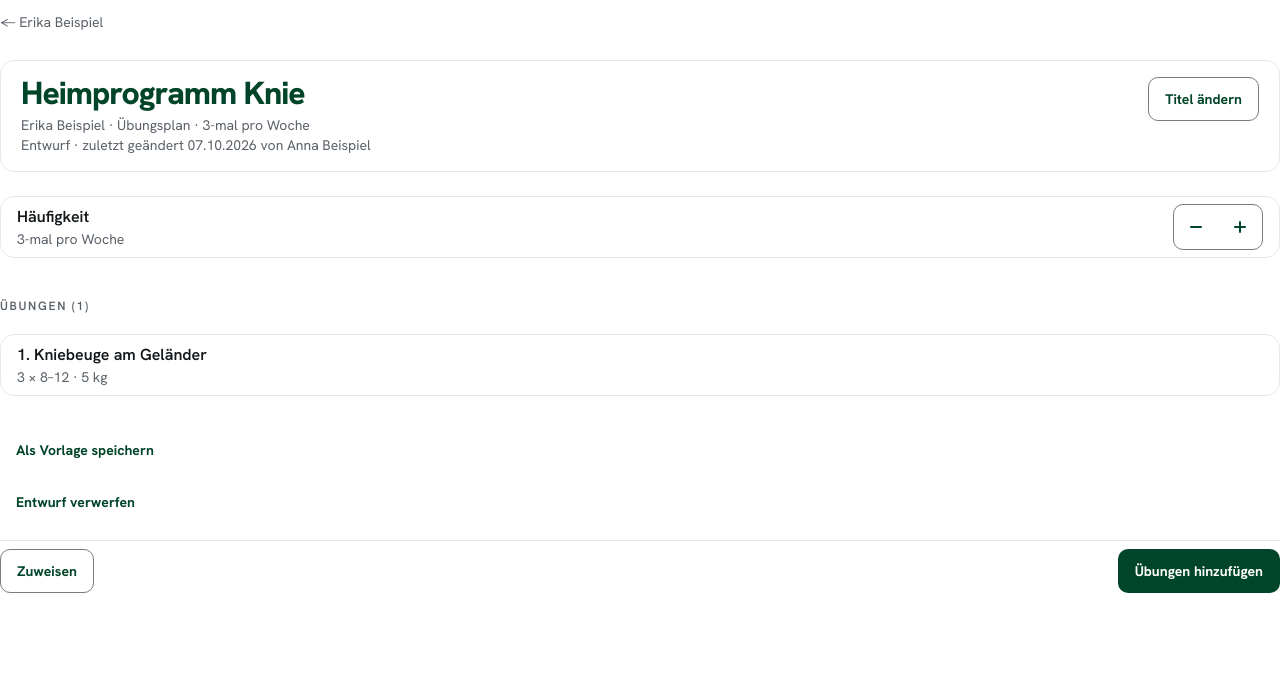
Scenario: Planeditor: Entwurf als Arbeitsseite (UEB-004, Welle B) › verlangt für die doppelte Progression eine Last
Click the button "1. Kniebeuge am Geländer 3 × 8–12 · 5 kg" at point(112, 354), box [1,335,1279,395]
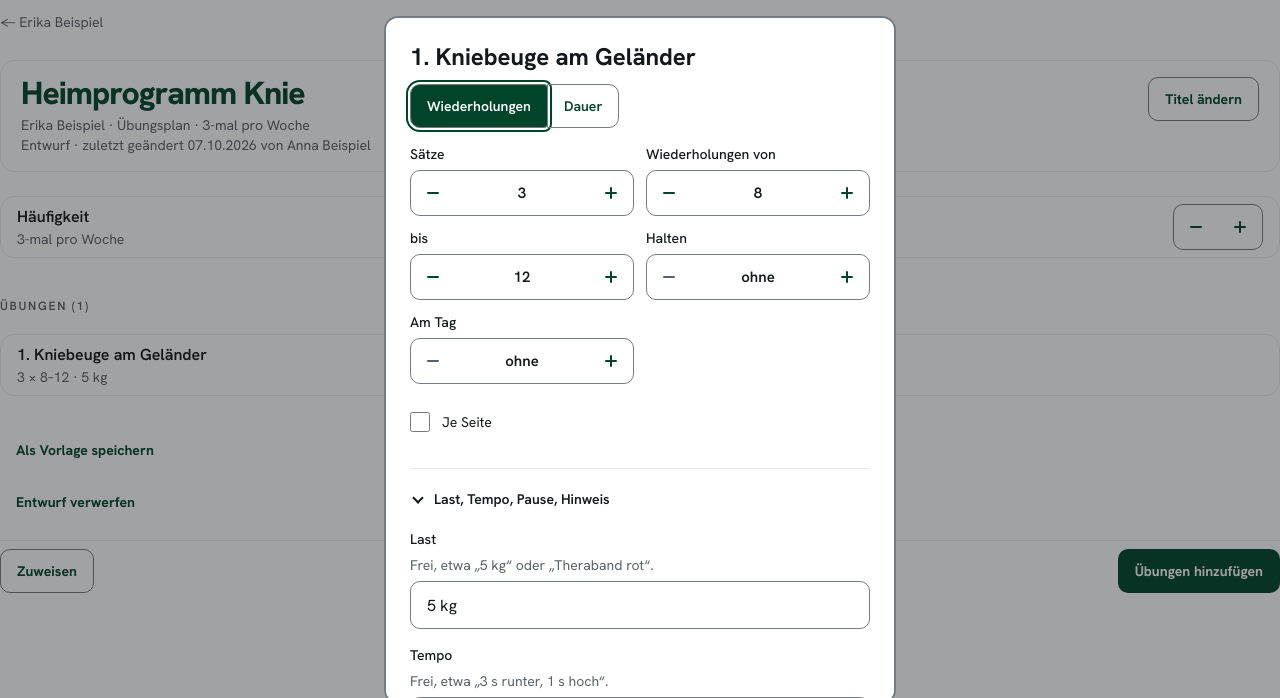
Clear the field labelled "Last" at point(640, 605), box [410,581,870,629]
(page scrolled)
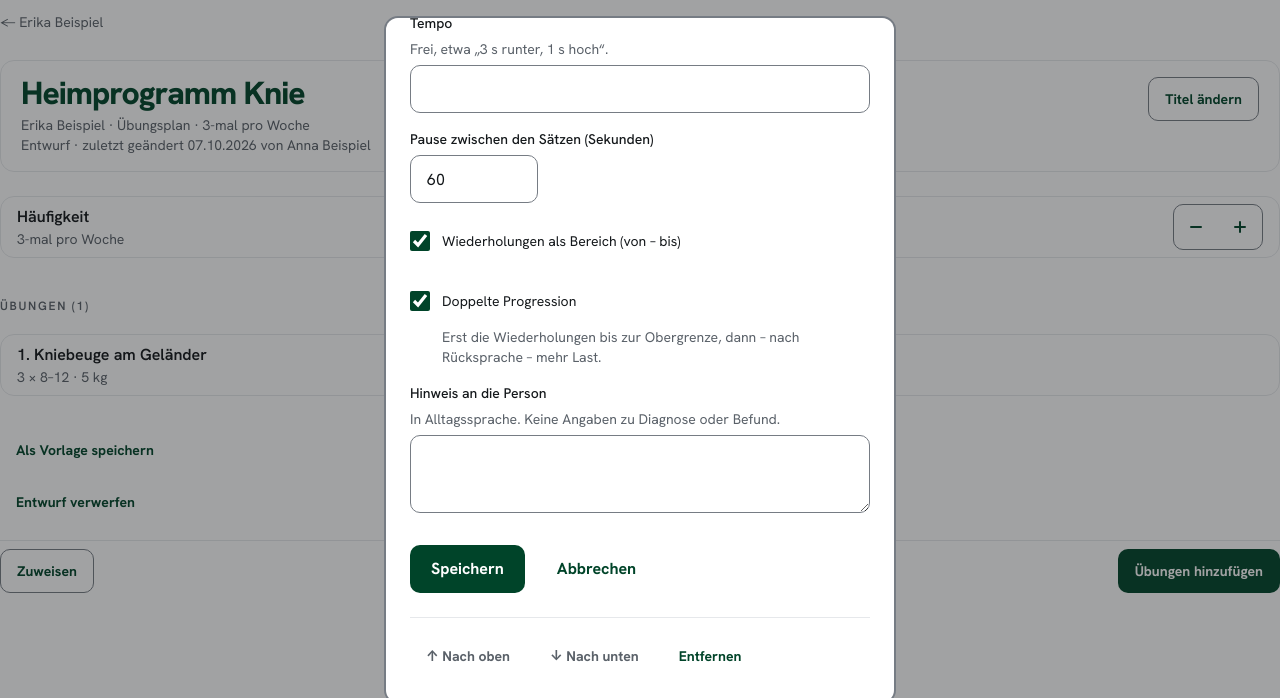
Click the button "Speichern" at point(467, 569), box [410,545,525,593]
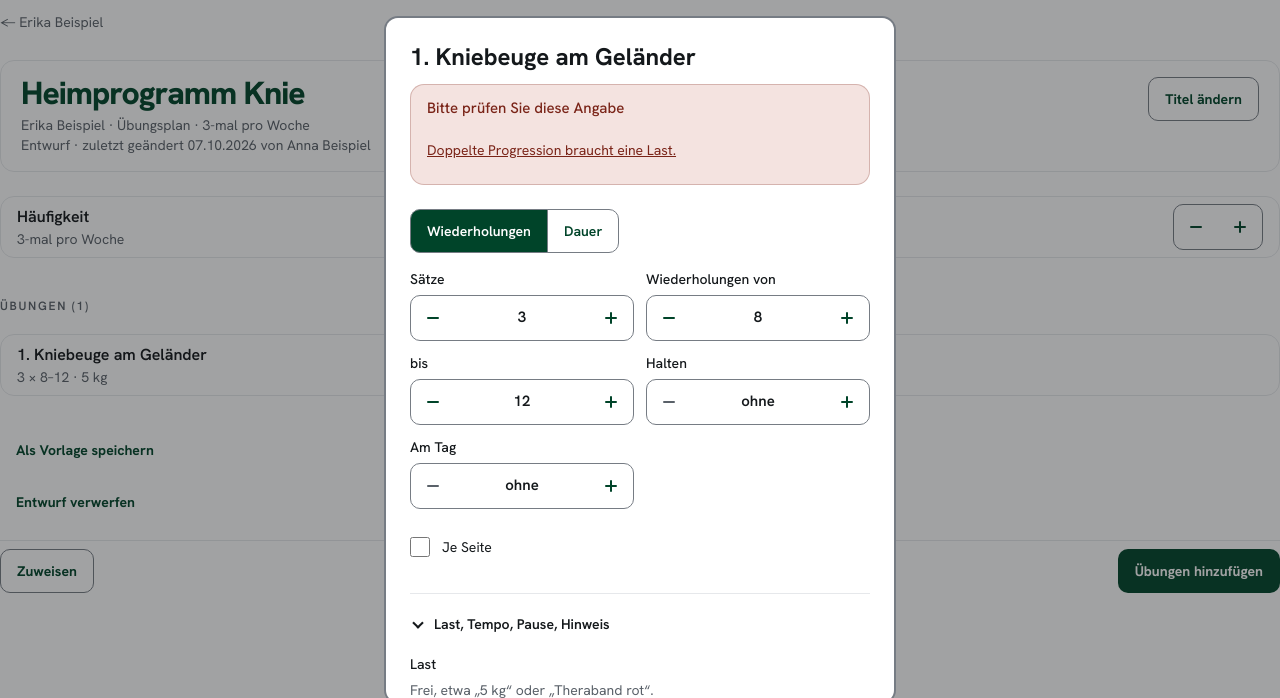
Check: the link "Doppelte Progression braucht eine Last." is shown, box [427,140,676,158]
